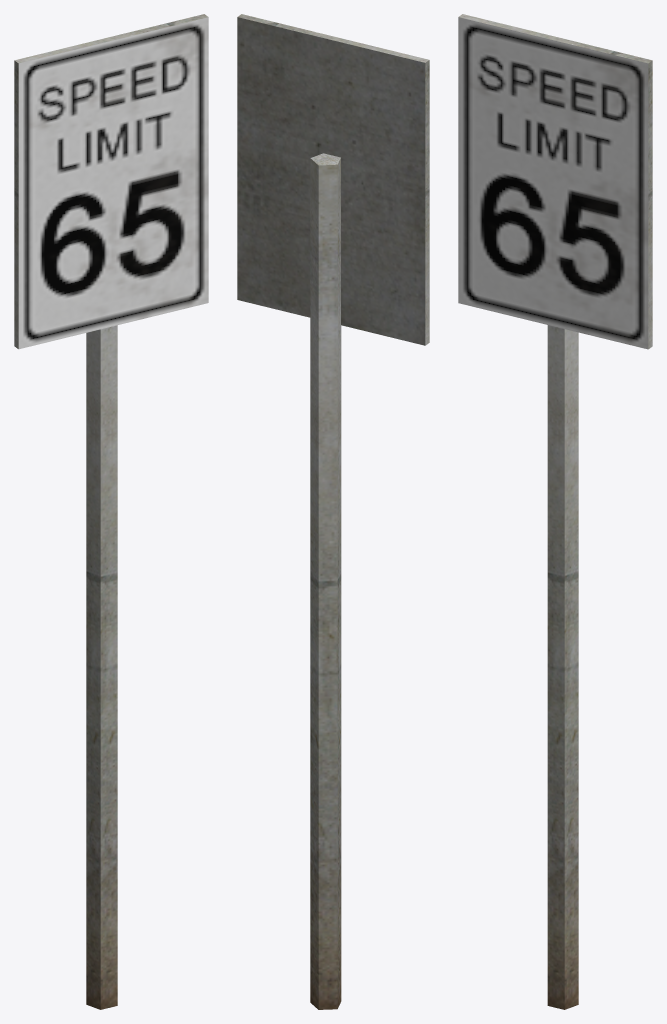
3 renders of one model, left to right at view 1: azimuth 30°, elevation 25°; view 2: azimuth 150°, elevation 25°; view 3: azimuth 330°, elevation 25°, orthographic.
Parts seen in each view (by area): view 1: Plane.005; view 2: Plane.005; view 3: Plane.005.
Part boxes in pixels (box(x1,y1,x2,y2)): Plane.005: box(14, 14, 208, 1009); Plane.005: box(237, 14, 429, 1009); Plane.005: box(458, 14, 652, 1009).
Bounding box in the file's own units: 99.83 × 487 × 16.43.
